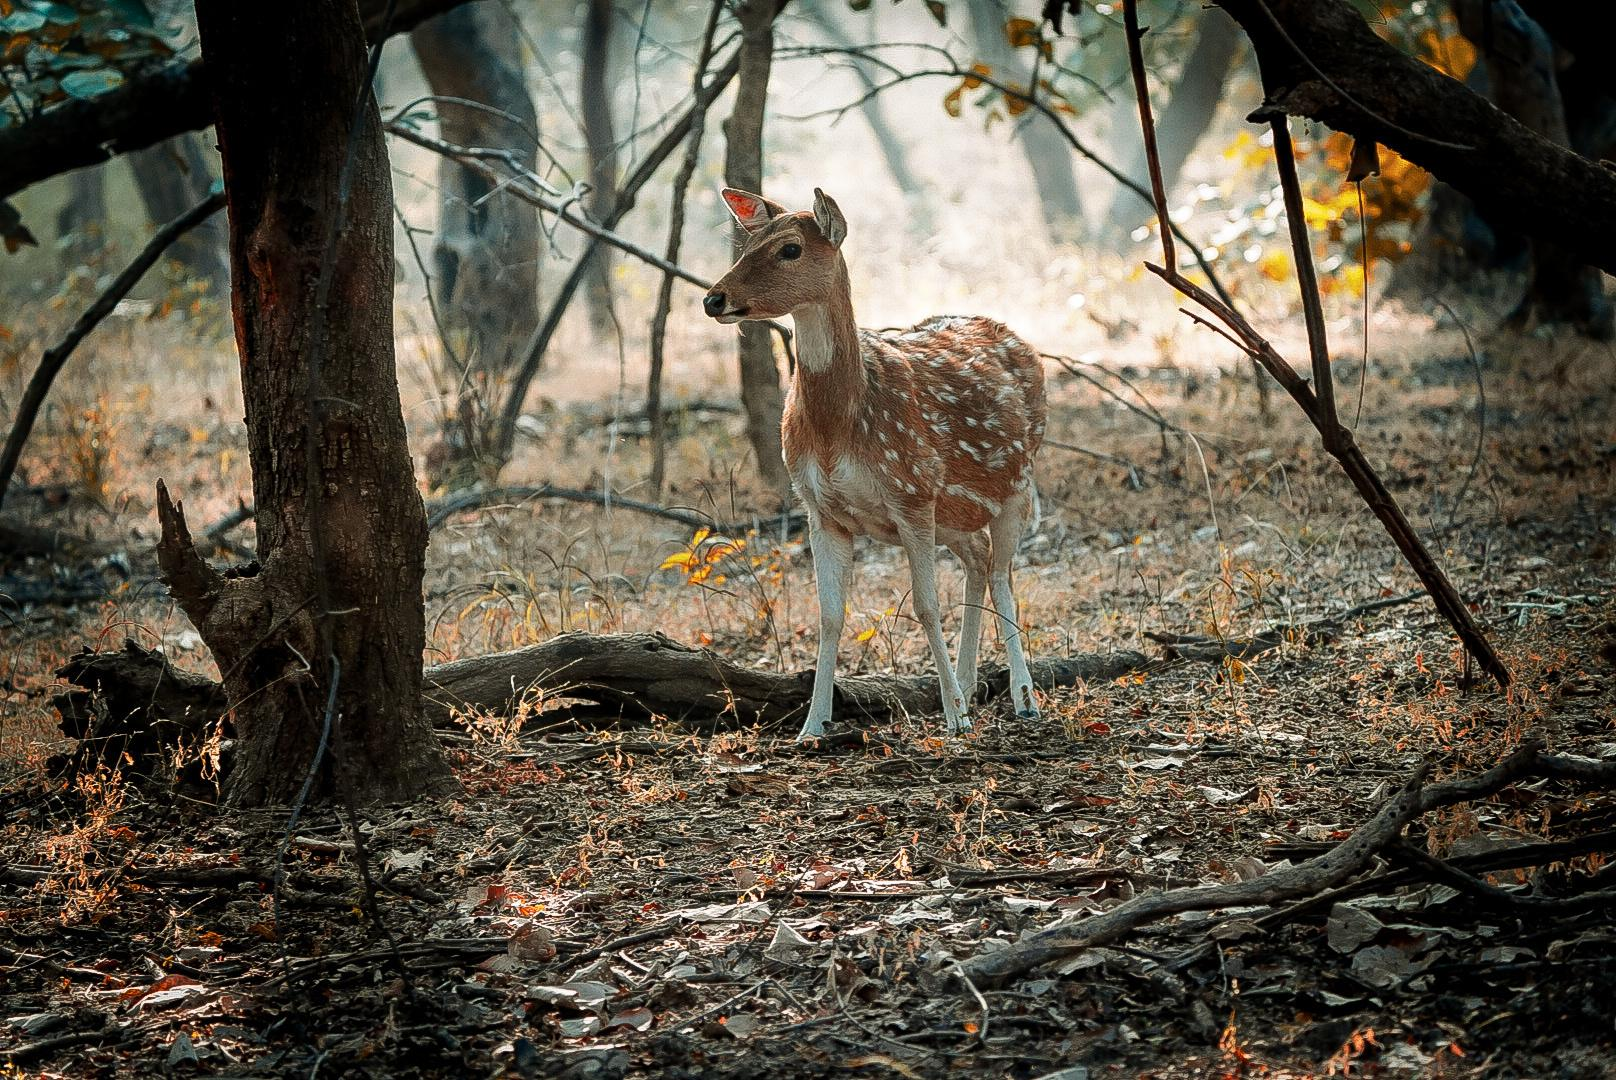Deer: (705, 189, 1046, 735)
